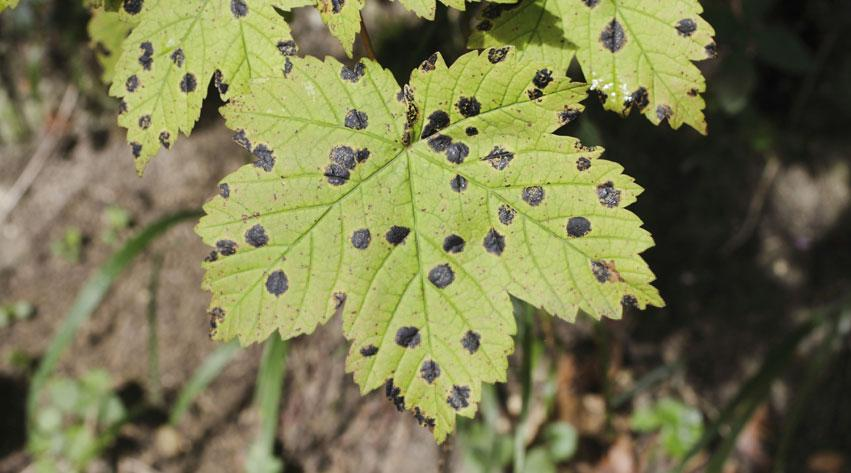black-spot: (310, 103, 547, 287)
